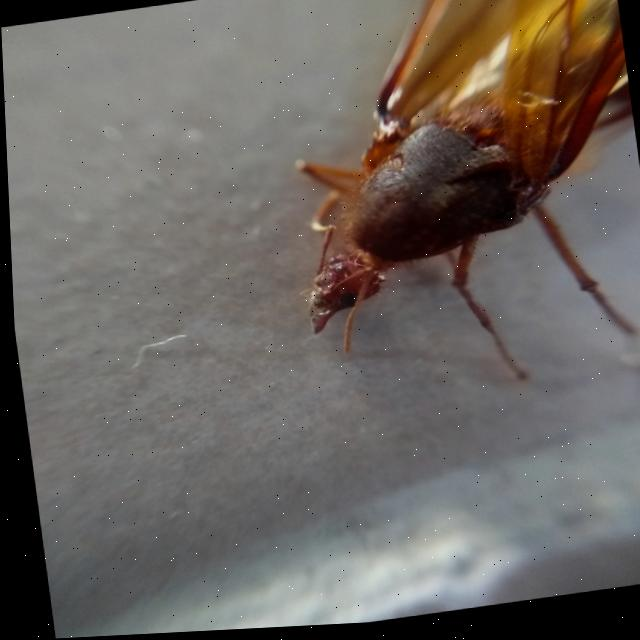Dead-Male-Alate: (257, 0, 640, 449)
